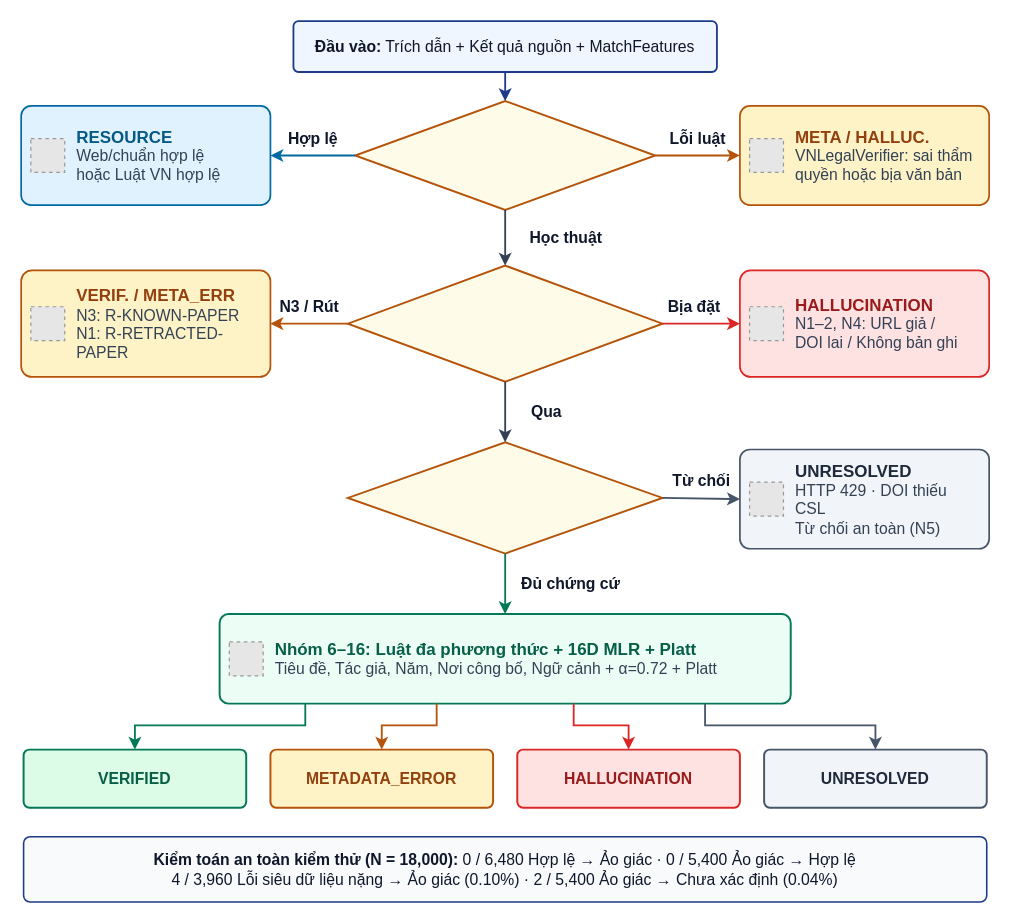
The diagram is 1012 pixels wide and 924 high, and some of its shapes have lost their labels. Grey dashed boxes stand in for pictures. Each missing label, with the centre of its shape:
"Bậc 0: Tài nguyên hay Văn bản Luật VN?" goes at point 505,154.
"Nhóm 1–4: Rào chắn cứng hay Bài kinh điển (N3)?" goes at point 504,323.
"Nhóm 5: Lỗi API / Cạn hạn mức / Thiếu CSL?" goes at point 504,497.
